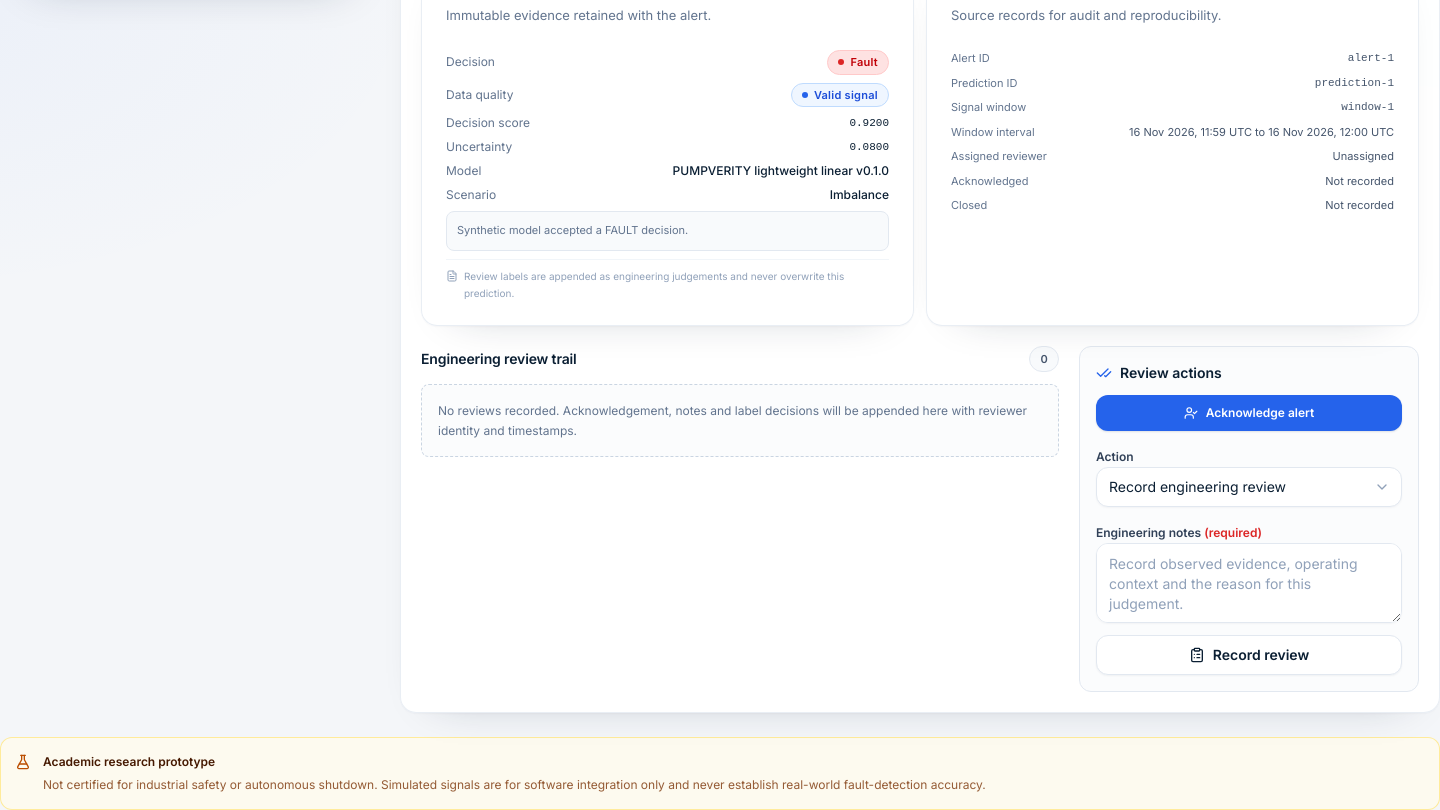
Test: AlertsPage › requires notes for a review and permits read-only inspection
Later steps or results of the test are not shown.
(page scrolled)
Click the button "Record review".
click(1249, 655)  # box [1096,635,1402,675]
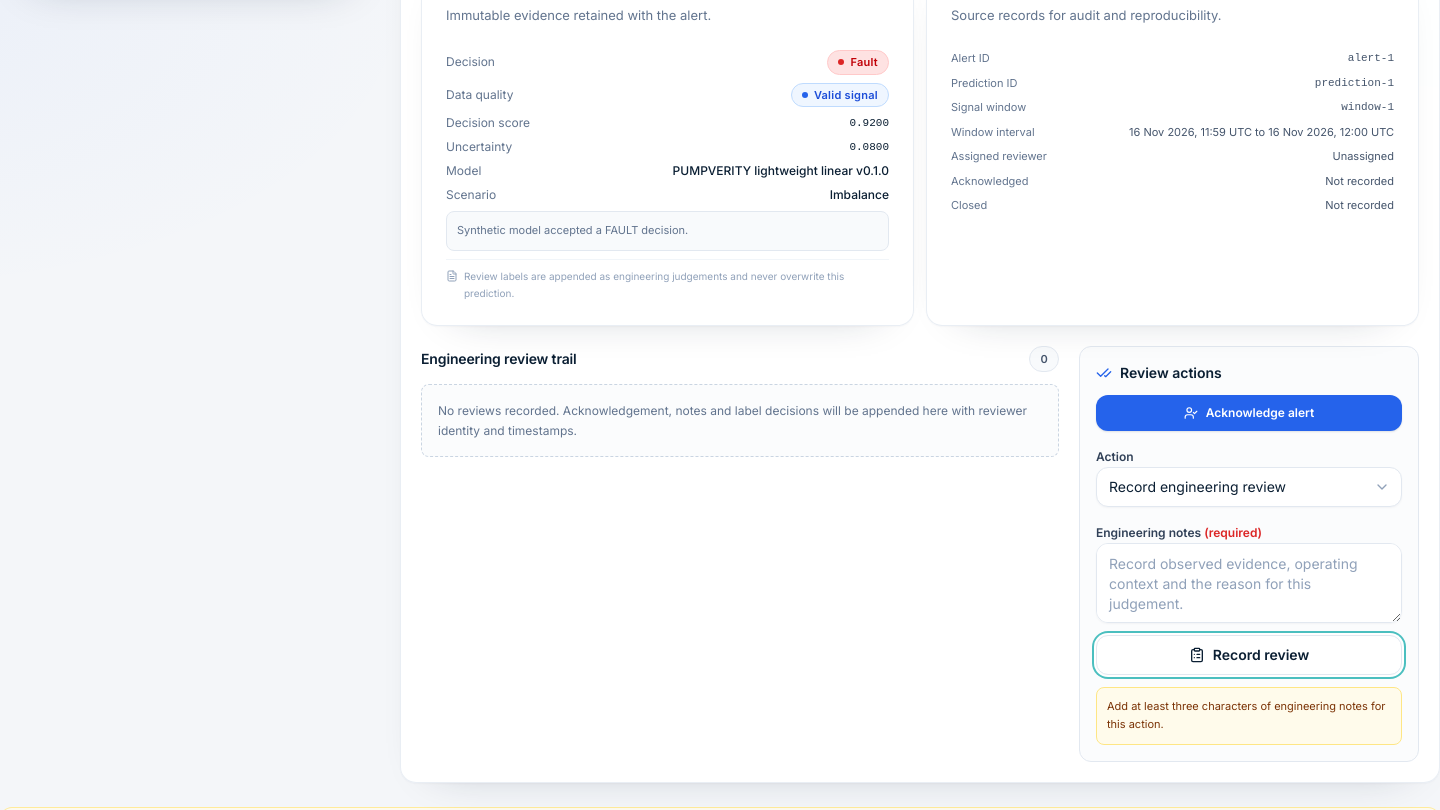
Expected: the text "Add at least three characters of engineering notes for this action." is shown, [1096,687,1402,745]
